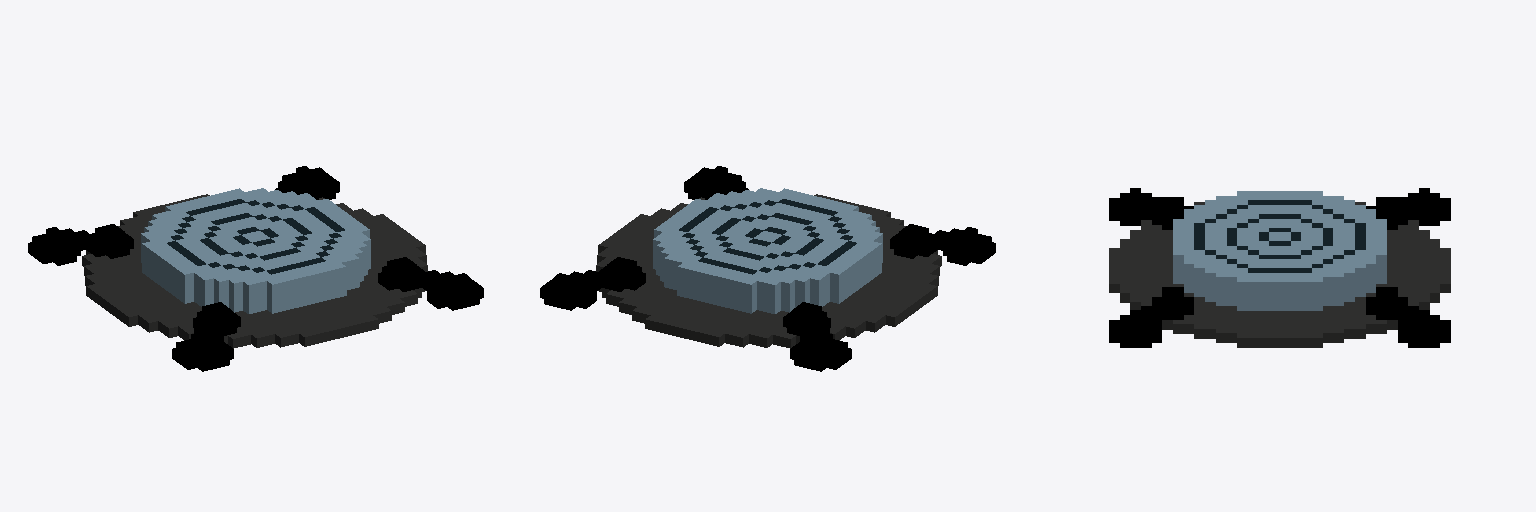
The picture shows the model from 3 angles: view 1: azimuth 30°, elevation 25°; view 2: azimuth 150°, elevation 25°; view 3: azimuth 270°, elevation 25°; orthographic projection.
Visible parts, largest first — view 1: object 1; view 2: object 1; view 3: object 1.
Boxes of the visible parts, <box> form: object 1: <box>28,166,483,371</box>; object 1: <box>540,166,995,371</box>; object 1: <box>1109,188,1450,347</box>.
Bounding box in the file's own units: 3.2 × 0.4 × 3.2.
1 materials, 1 textured.